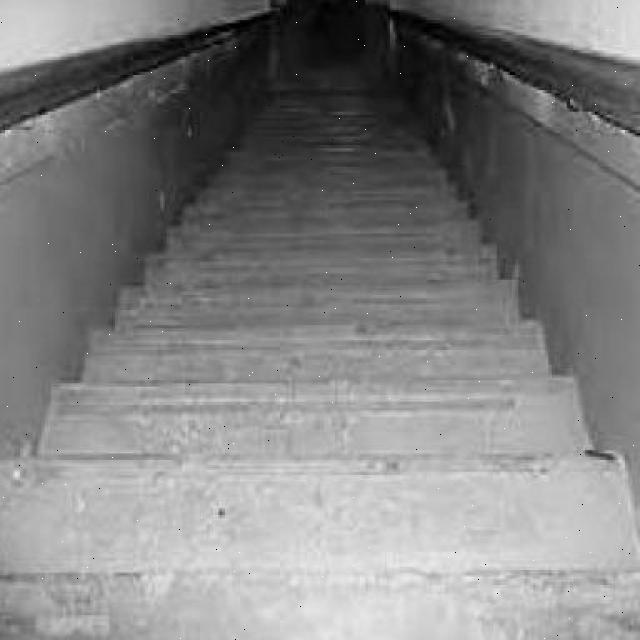stair: (30, 368, 515, 538)
